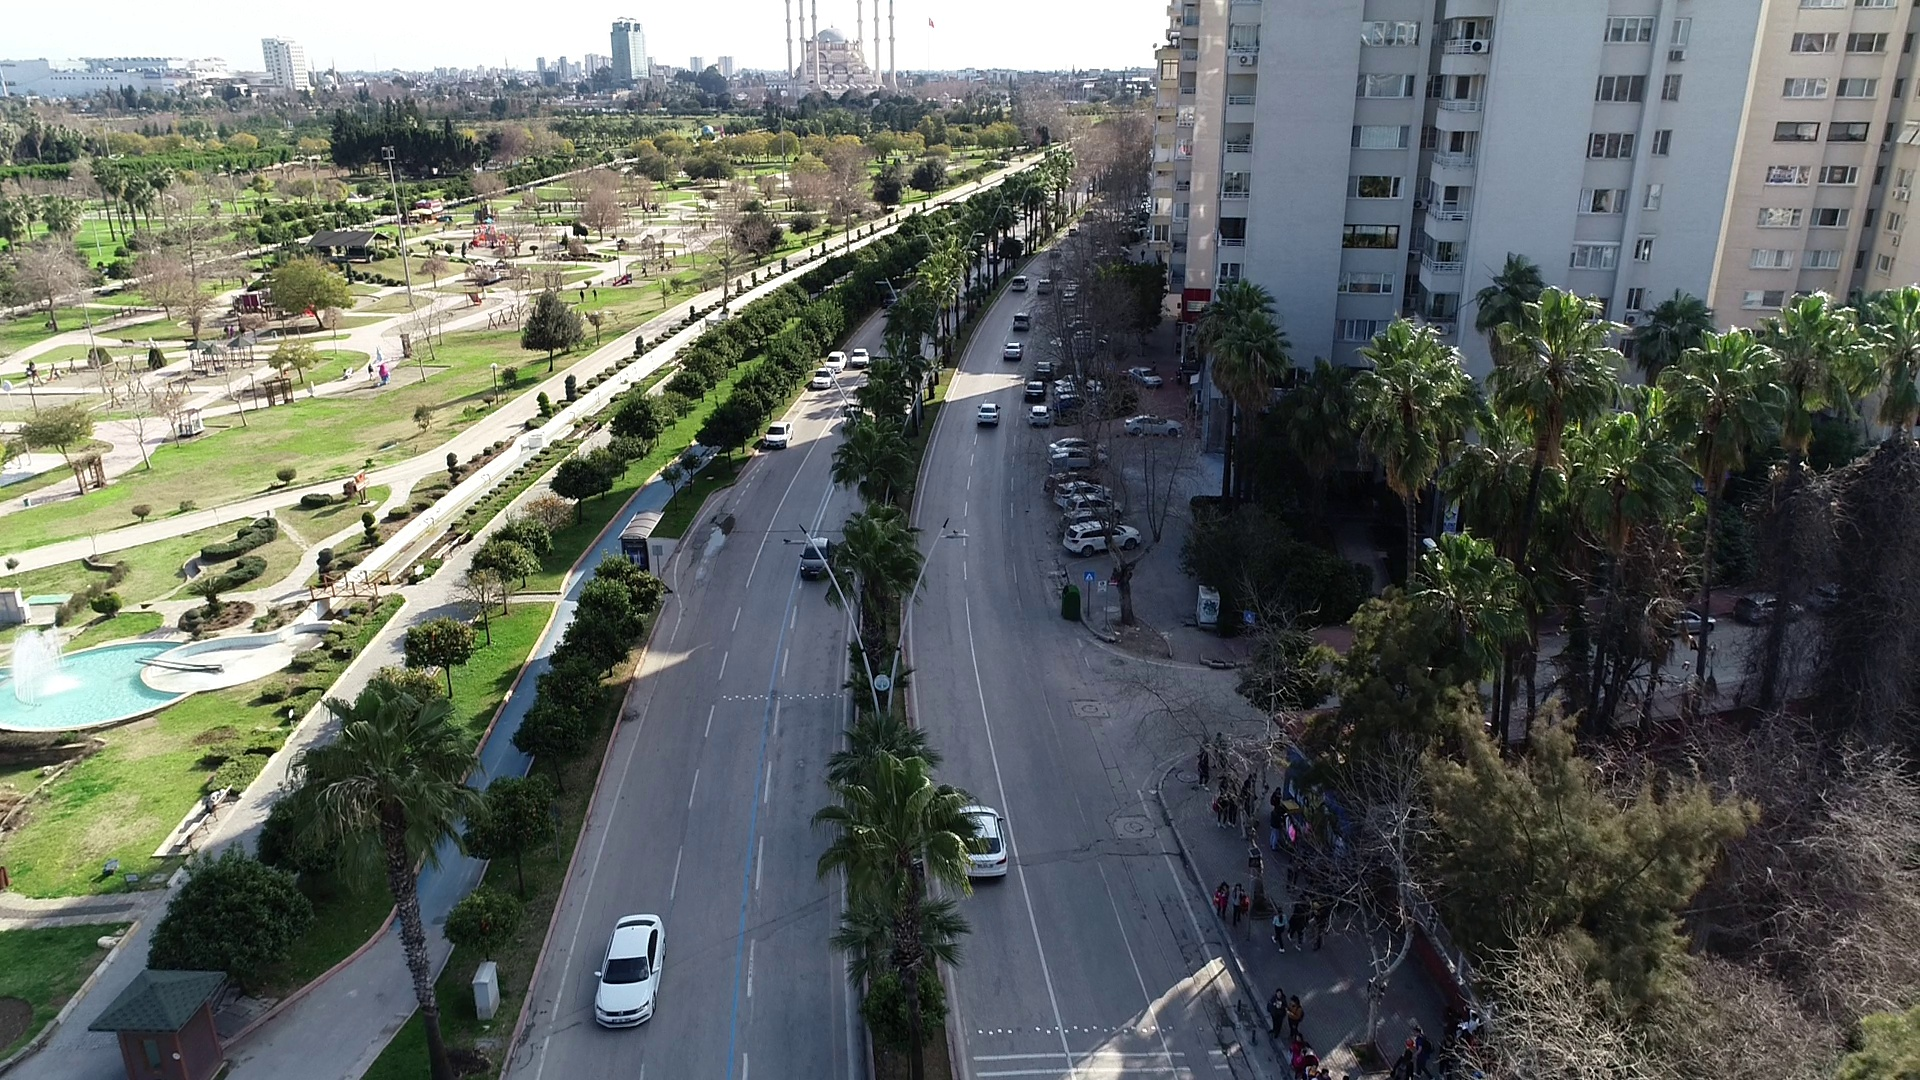car: (590, 910, 685, 1033), (942, 795, 1028, 882), (1062, 519, 1149, 557), (1122, 410, 1185, 443), (1052, 478, 1121, 508), (795, 538, 835, 583), (1047, 435, 1108, 462), (761, 416, 800, 450), (1126, 361, 1164, 394), (810, 365, 842, 391), (973, 399, 1003, 427), (823, 348, 850, 375), (1021, 376, 1048, 401), (1026, 402, 1051, 428), (849, 346, 874, 371), (1003, 338, 1026, 362), (1032, 358, 1060, 377), (1009, 270, 1030, 295), (1010, 311, 1033, 333), (1034, 276, 1054, 296)
person: (1405, 1019, 1440, 1080), (1282, 991, 1315, 1039), (1269, 904, 1294, 955), (1267, 984, 1287, 1041), (1229, 881, 1254, 925), (1287, 1031, 1308, 1079), (1198, 744, 1216, 794), (1268, 805, 1287, 848), (1214, 876, 1231, 919), (1217, 791, 1235, 828), (1272, 780, 1285, 807), (590, 288, 601, 303), (578, 288, 588, 304), (366, 362, 376, 381)
